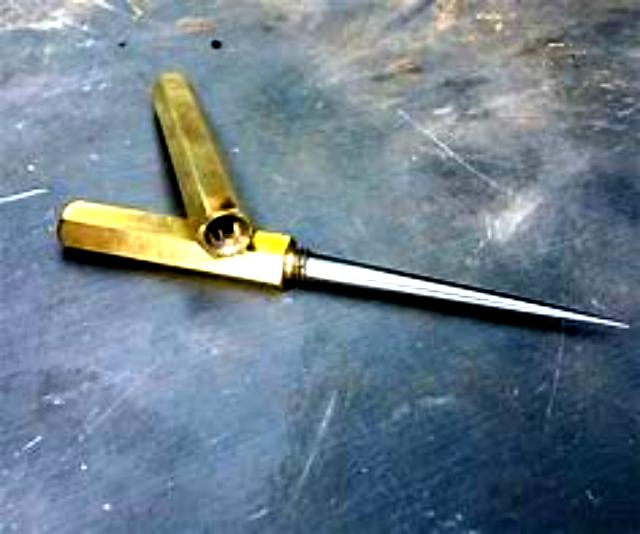ice pick: (60, 190, 624, 344)
